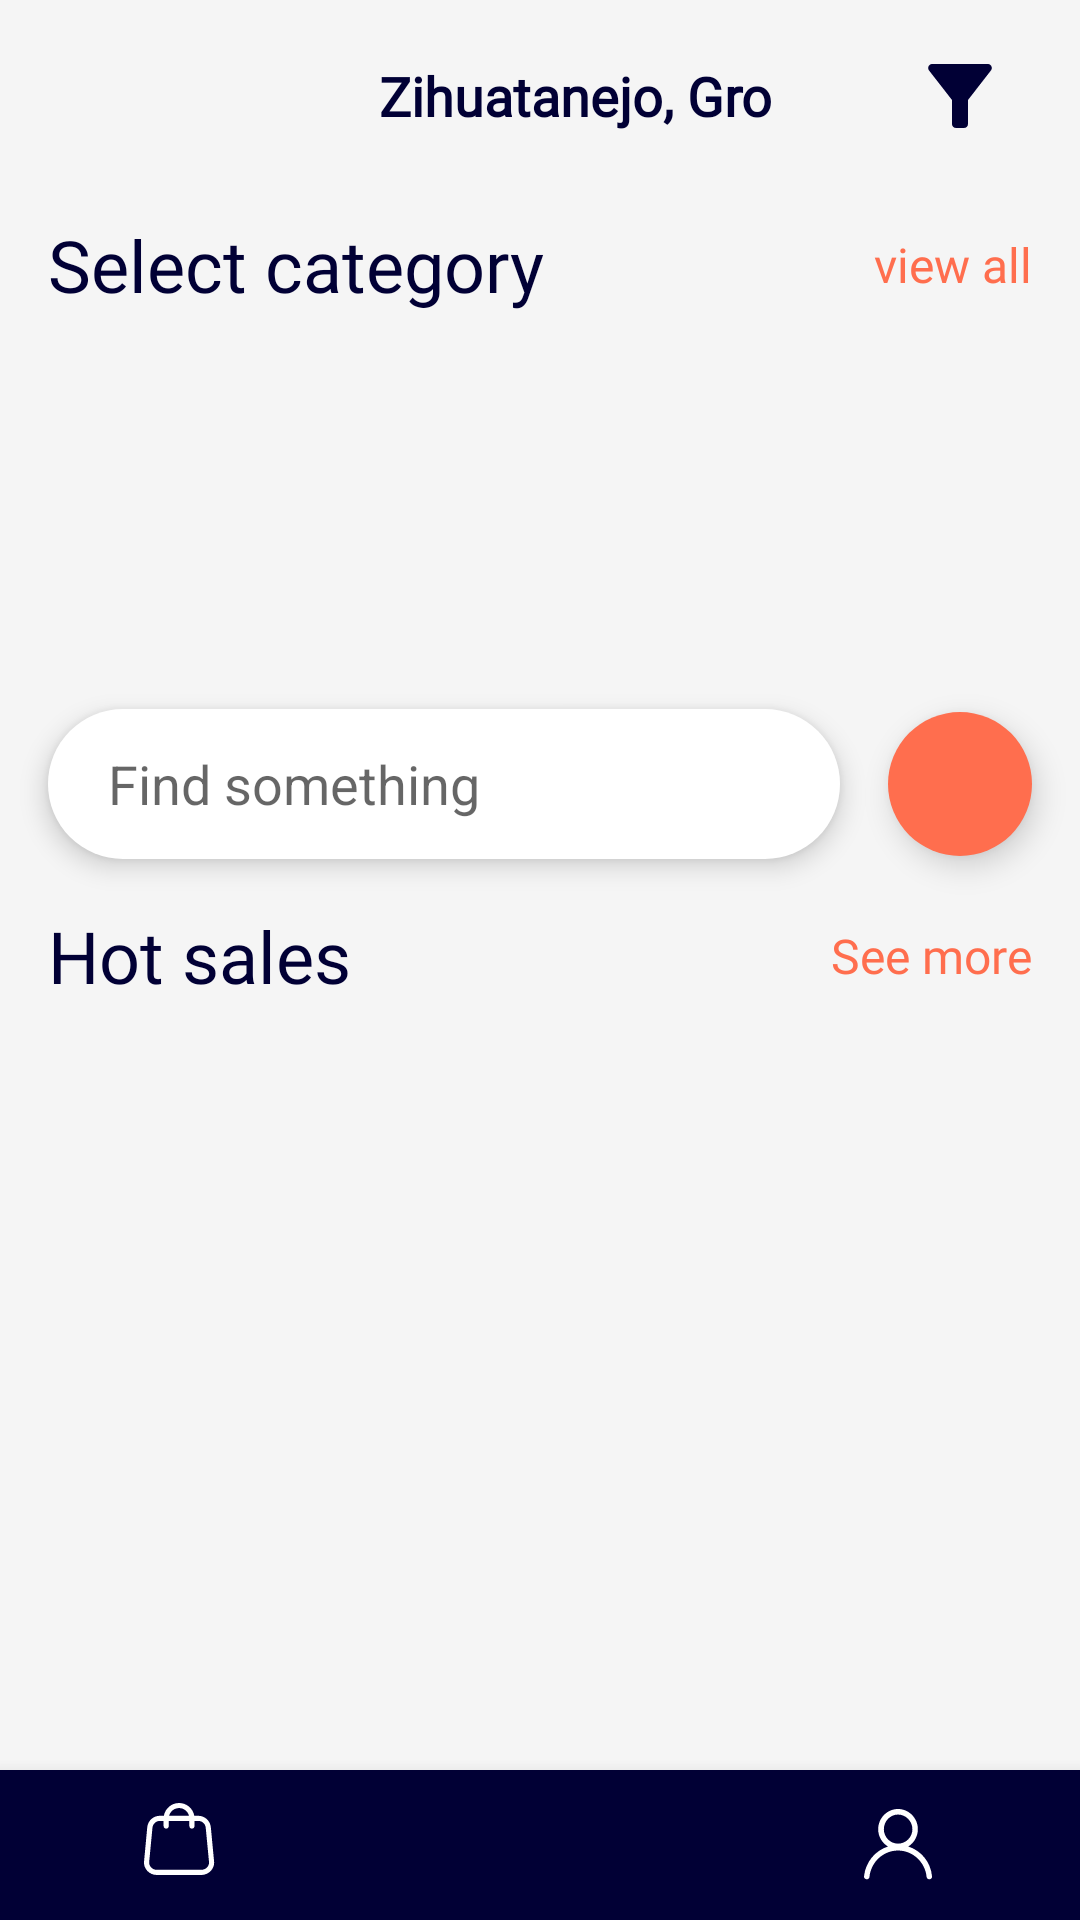

Named icons in this screenshot (1080 x 1920) and their bounding boxes, (x1=x1, y1=y1, x2=x2, y2=y2):
filter icon: (x1=928, y1=64, x2=992, y2=128)
